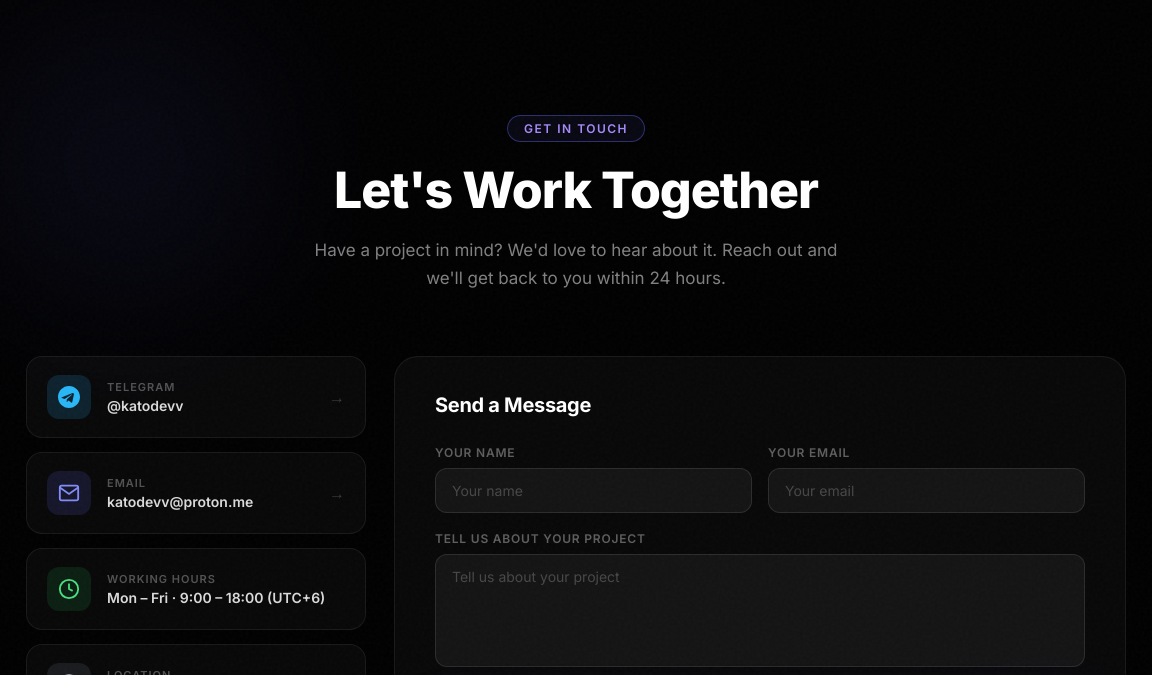
Scenario: posts the form values and shows the sent state
Step 1. Type "Ada" into the field with placeholder "Your name" → (594, 491), box top-left (435, 468), bottom-right (752, 513)
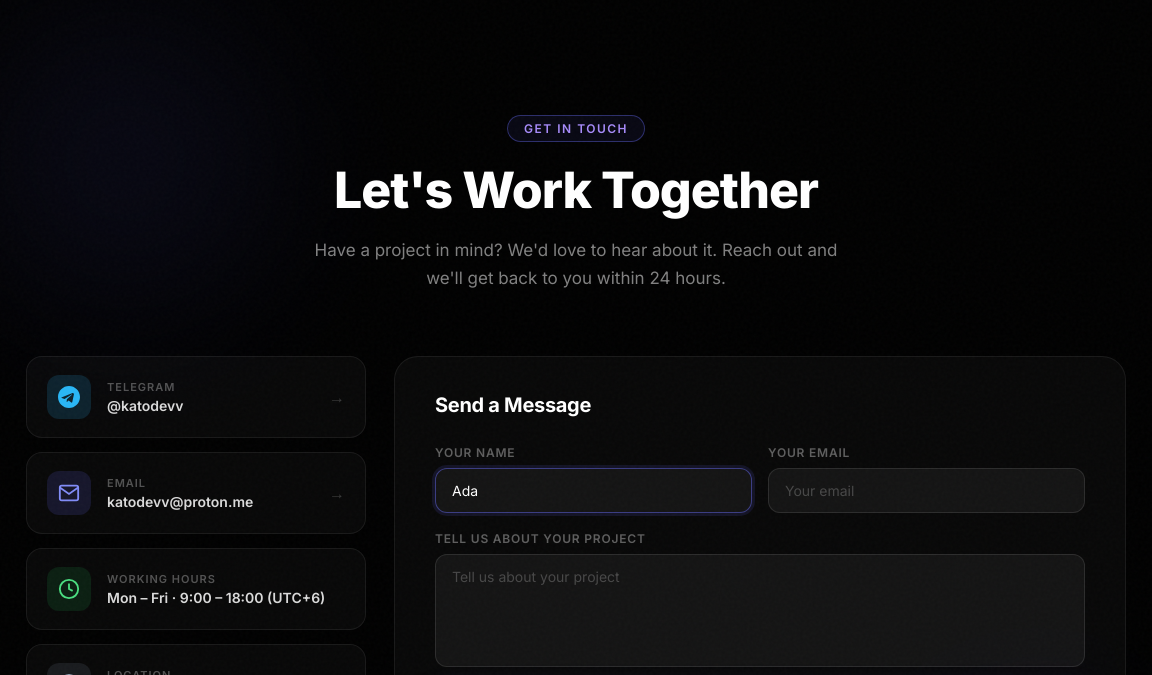
Step 2. Type "ada@example.com" into the field with placeholder "Your email" → (926, 491), box top-left (768, 468), bottom-right (1085, 513)
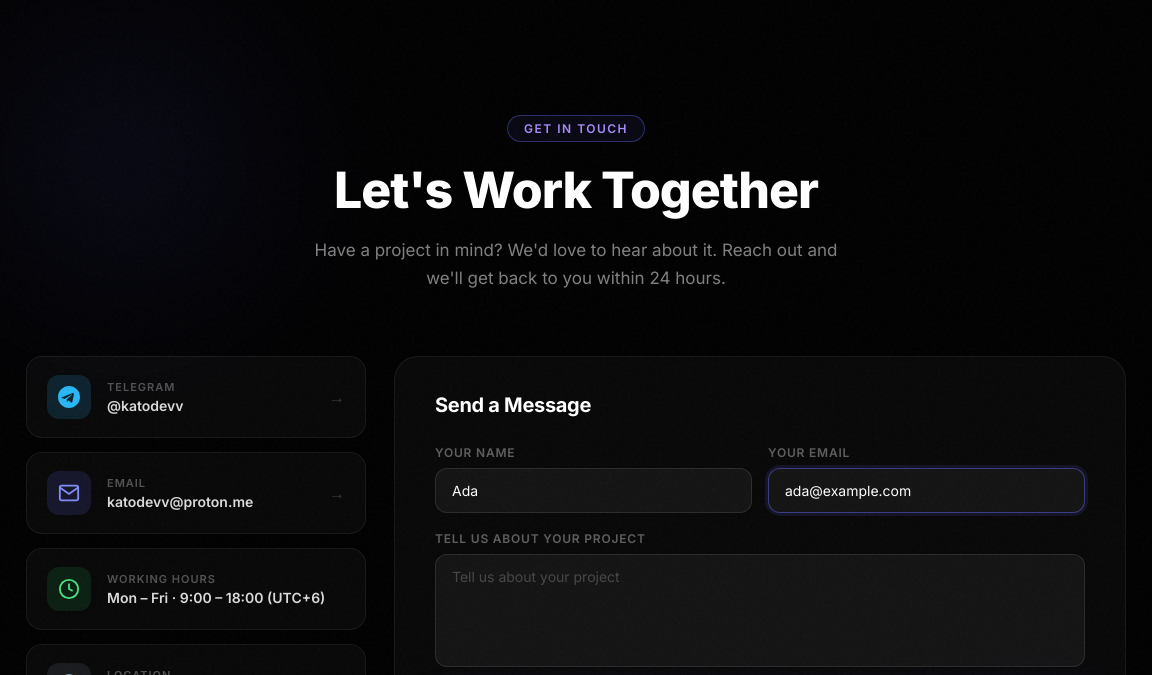
Step 3. Type "I need a landing page for my shop." into the text box with placeholder "Tell us about your project" → (760, 611), box top-left (435, 554), bottom-right (1085, 667)
(page scrolled)
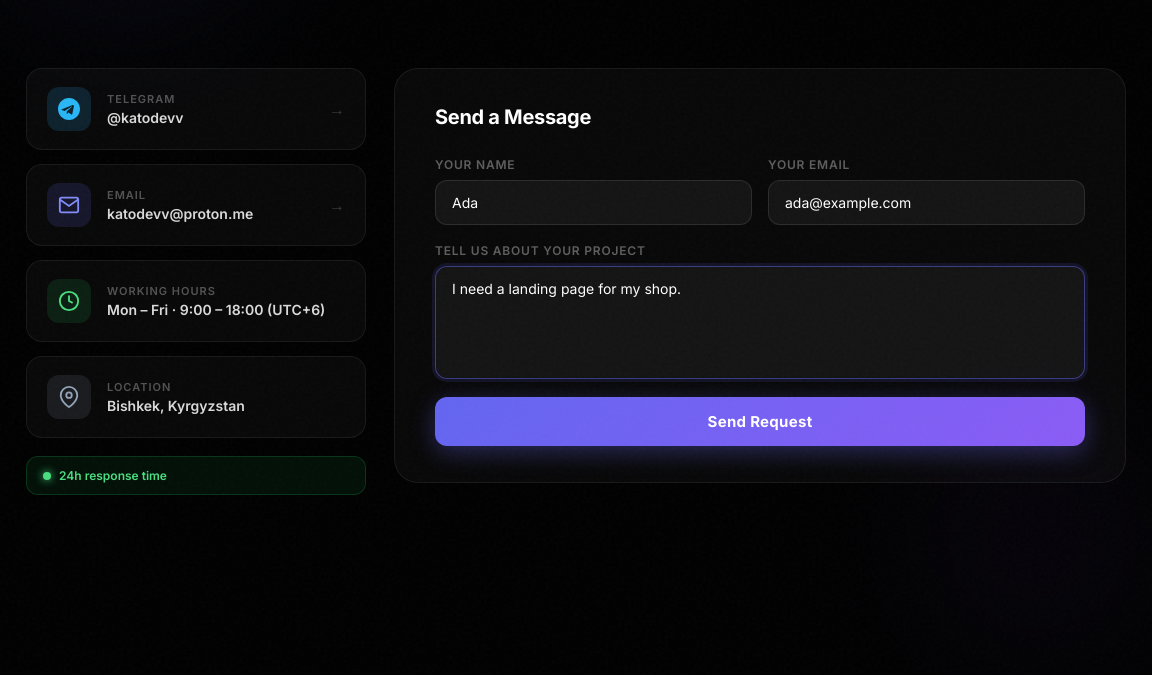
Step 4. Click the button "Send Request" → (760, 422), box top-left (435, 397), bottom-right (1085, 446)
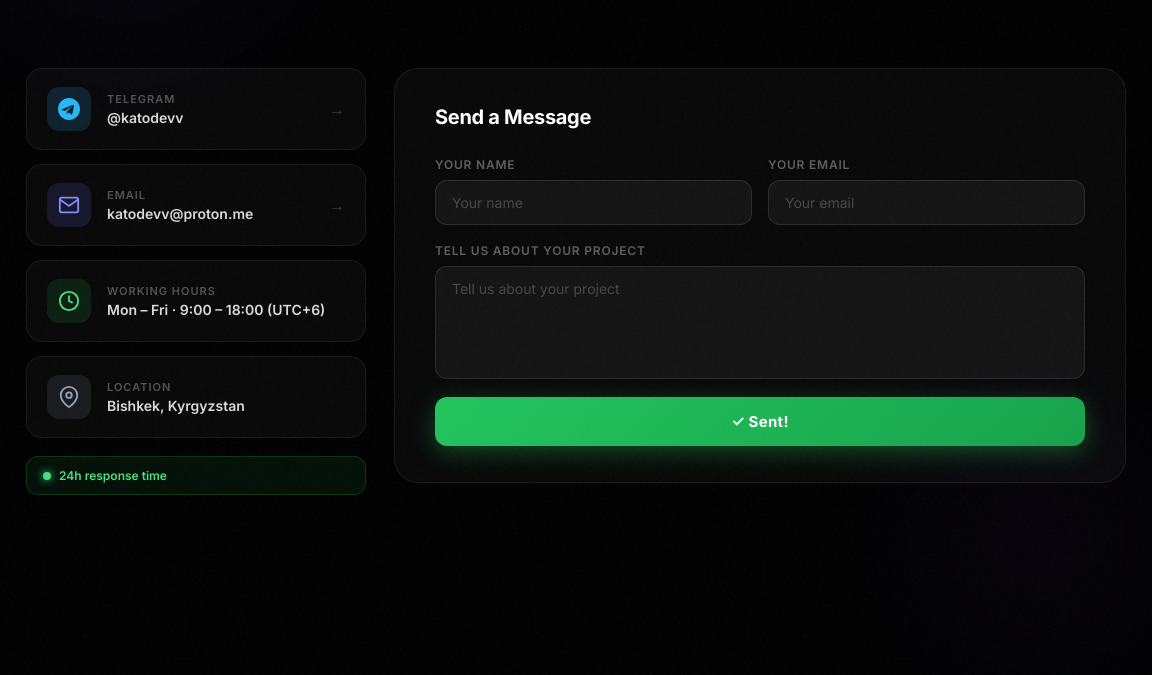
Result: the button "✓ Sent!" is shown at top-left (435, 397), bottom-right (1085, 446)
